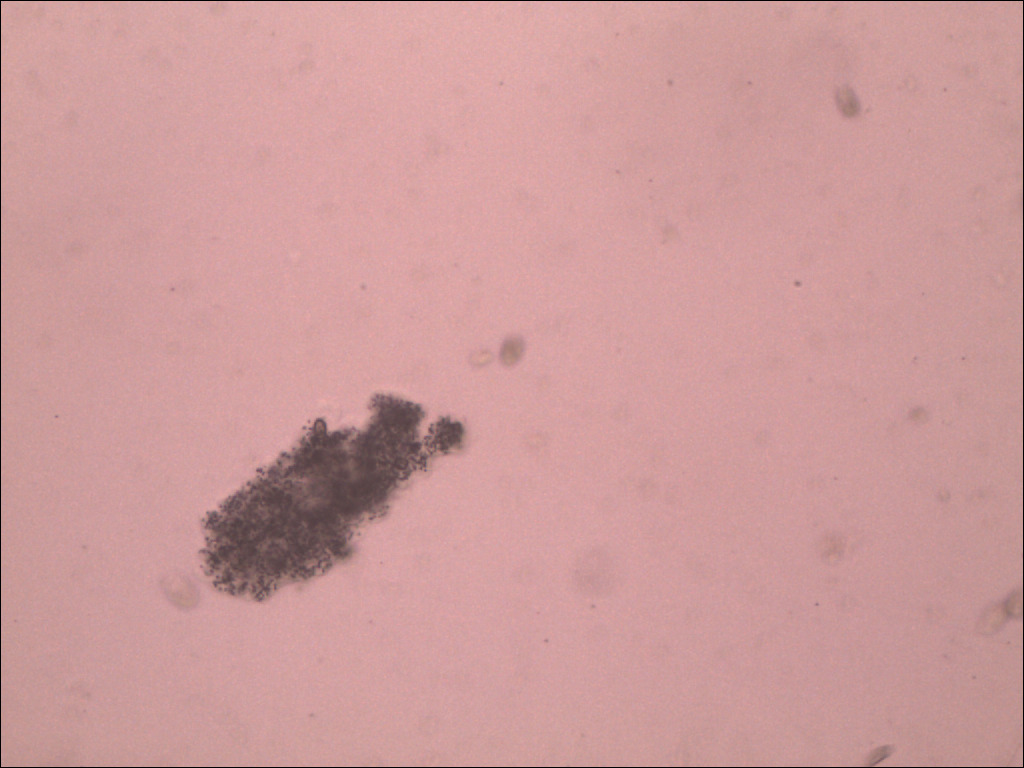amoeba: (192, 386, 485, 611)
